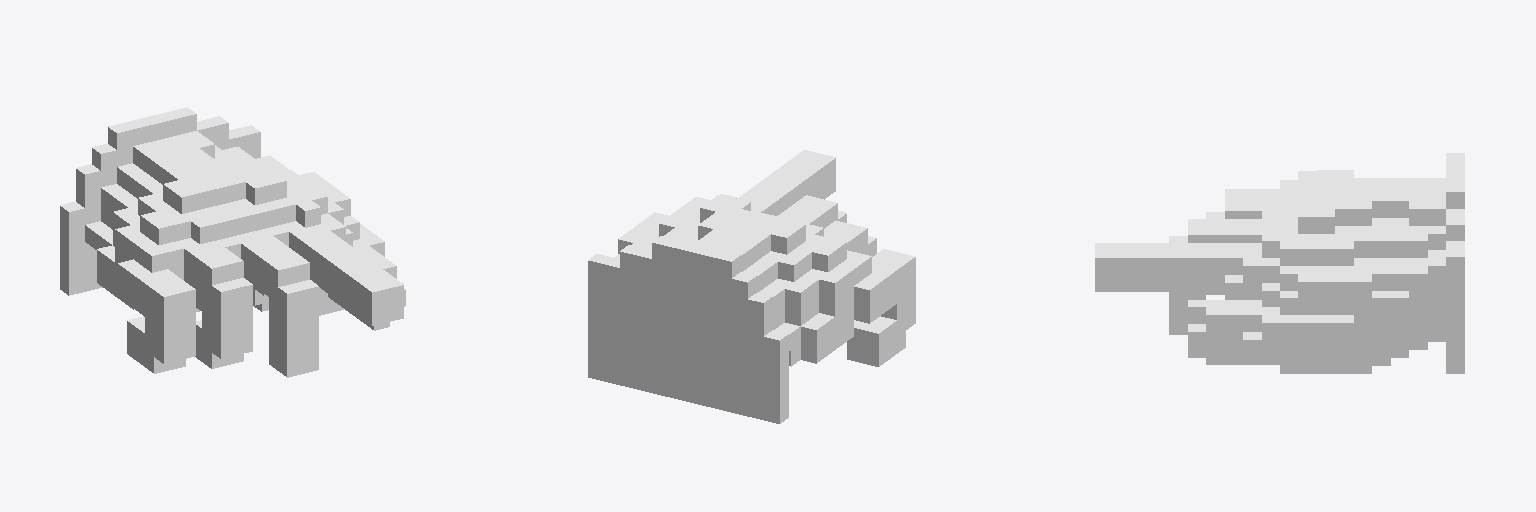
File: Player001.obj
3 renders of one model, left to right at view 1: azimuth 30°, elevation 25°; view 2: azimuth 150°, elevation 25°; view 3: azimuth 270°, elevation 25°, orthographic.
Visible parts, largest first — view 1: object 1; view 2: object 1; view 3: object 1.
Boxes of the visible parts, box(x1,y1,x2,y2) form: object 1: box(60, 107, 405, 377); object 1: box(588, 150, 915, 423); object 1: box(1095, 153, 1464, 373).
Bounding box in the file's own units: 1.5 × 0.9 × 2.